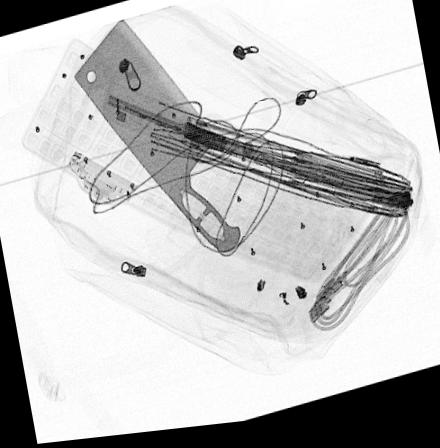Knife: (72, 22, 239, 255)
